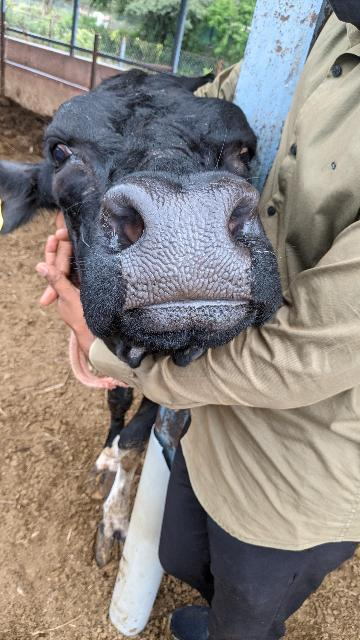Muzzle: (112, 182, 252, 304)
